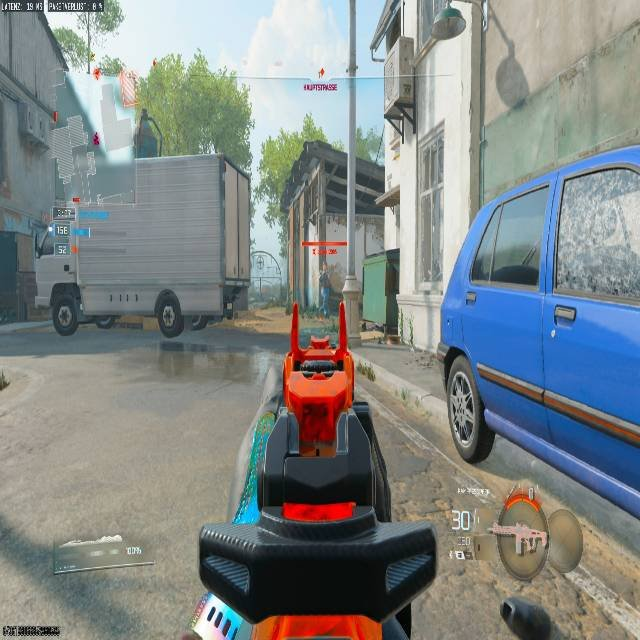player: (316, 259, 339, 317)
